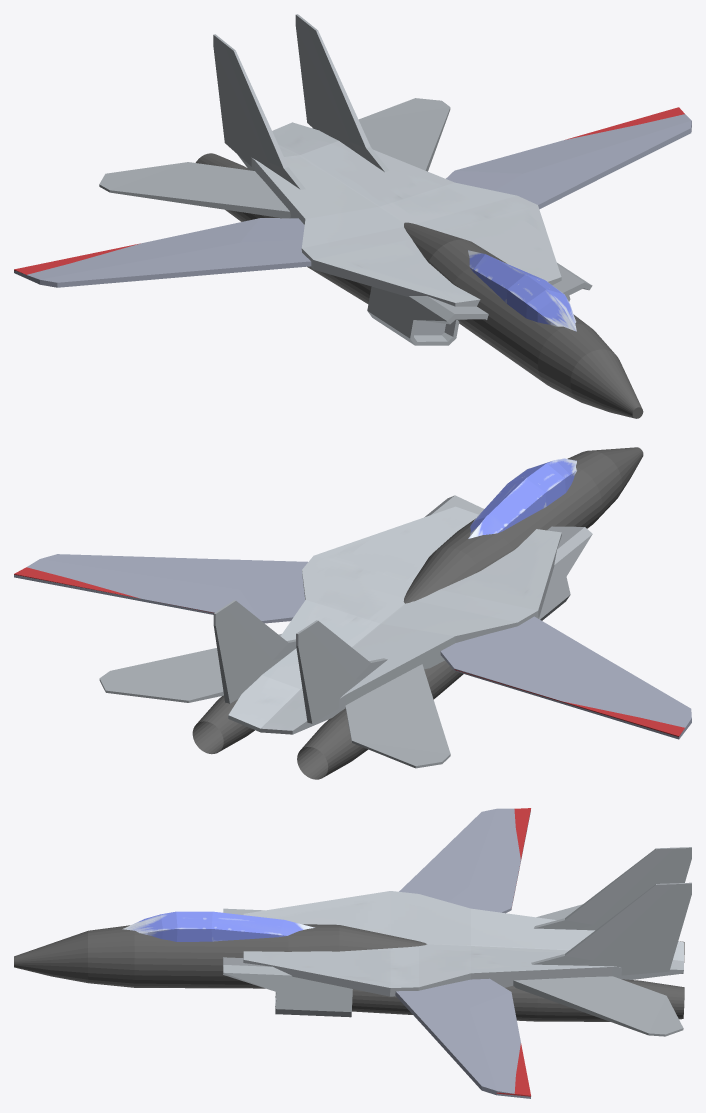
3 renders of one model, top to bottom at view 1: azimuth 30°, elevation 25°; view 2: azimuth 150°, elevation 25°; view 3: azimuth 270°, elevation 25°, orthographic. The views are drawn at different scales.
Parts seen in each view (by area): view 1: mainframe, cylinders, rwing, lwing, visor, rwing-aleron, lwing-aleron; view 2: mainframe, cylinders, rwing, lwing, visor, rwing-aleron, lwing-aleron; view 3: mainframe, cylinders, lwing, rwing, visor, lwing-aleron, rwing-aleron.
Boxes of the visible parts, x1,y1,x2,y2 form: mainframe: [99, 14, 592, 345]; cylinders: [195, 128, 643, 418]; rwing: [14, 218, 311, 287]; lwing: [446, 114, 691, 209]; visor: [468, 250, 576, 331]; rwing-aleron: [14, 243, 140, 274]; lwing-aleron: [565, 107, 684, 139]; mainframe: [99, 495, 592, 768]; cylinders: [192, 447, 643, 779]; rwing: [440, 616, 691, 739]; lwing: [14, 554, 307, 623]; visor: [468, 458, 576, 538]; rwing-aleron: [454, 669, 684, 736]; lwing-aleron: [14, 567, 213, 613]; mainframe: [223, 847, 691, 1036]; cylinders: [14, 924, 684, 1021]; lwing: [395, 978, 531, 1098]; rwing: [399, 808, 530, 913]; visor: [122, 911, 314, 941]; lwing-aleron: [496, 1043, 530, 1096]; rwing-aleron: [514, 808, 530, 883].
Bounding box in the file's own units: 3.06 × 0.6562 × 3.05.
7 materials, 7 textured.
